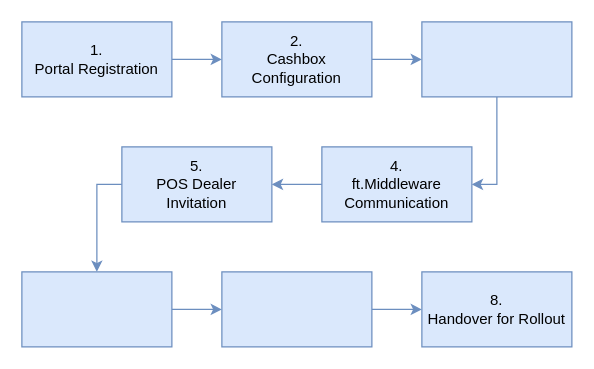
This 594x369 diagram has some shape labels left out. The centre of each missing label's shape, as x and y in pixels:
"3. ft.Middleware Launcher" belongs at pixel 496 59.
"6. Complex Business Case Analysis" belongs at pixel 96 309.
"7. Pilot Installation" belongs at pixel 296 309.
